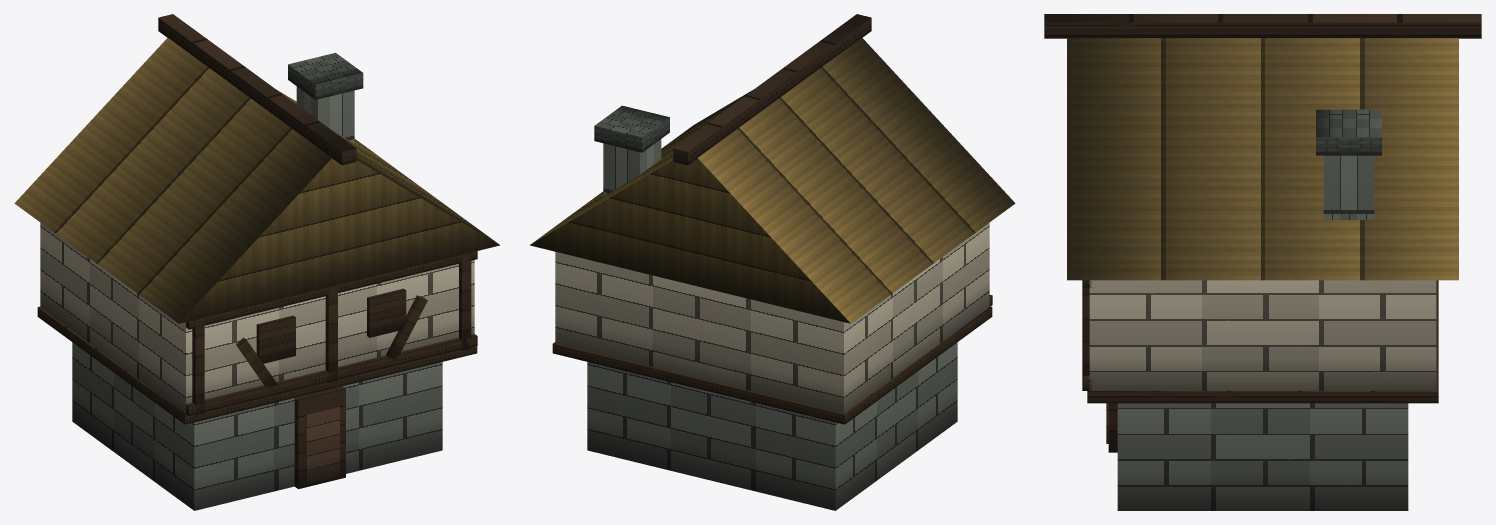
File: cottage.glb
3 renders of one model, left to right at view 1: azimuth 30°, elevation 25°; view 2: azimuth 150°, elevation 25°; view 3: azimuth 270°, elevation 25°, orthographic. The views are drawn at different scales.
Visible parts, largest first — view 1: cottage; view 2: cottage; view 3: cottage.
Part boxes in pixels (x1,y1,x2,y2): cottage: [14, 14, 499, 510]; cottage: [530, 14, 1015, 510]; cottage: [1044, 14, 1481, 510].
Size of the model in its own units: 1.75 by 1.83 by 1.73.
1 material, 1 textured.
